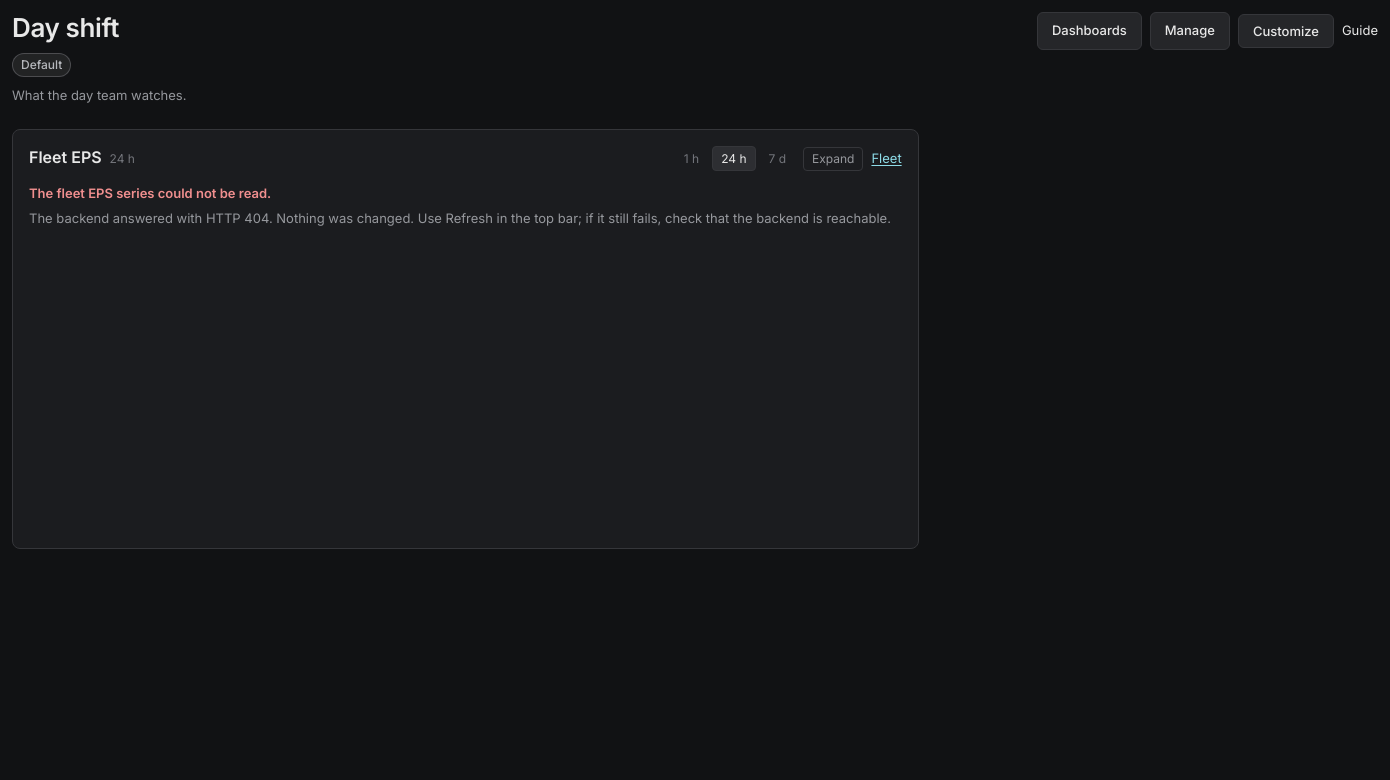
Test case: layout saving › keeps the layout and Save control after a network failure
Click the button "1 h" at point(692, 159), box [675,146,708,171]
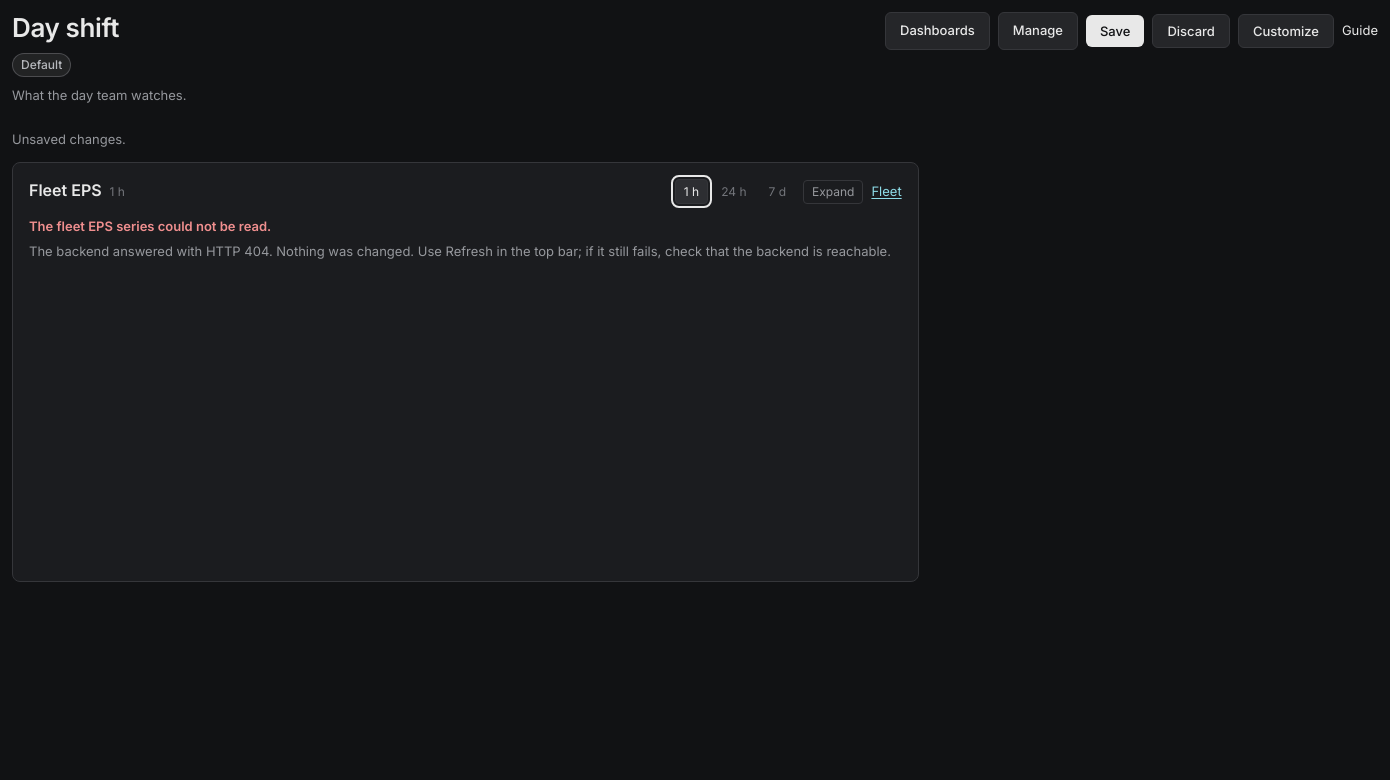
Check: the text "Unsaved changes." is shown, box [12,131,126,147]
Click the button "Save" at point(1115, 31), box [1086,15,1144,47]
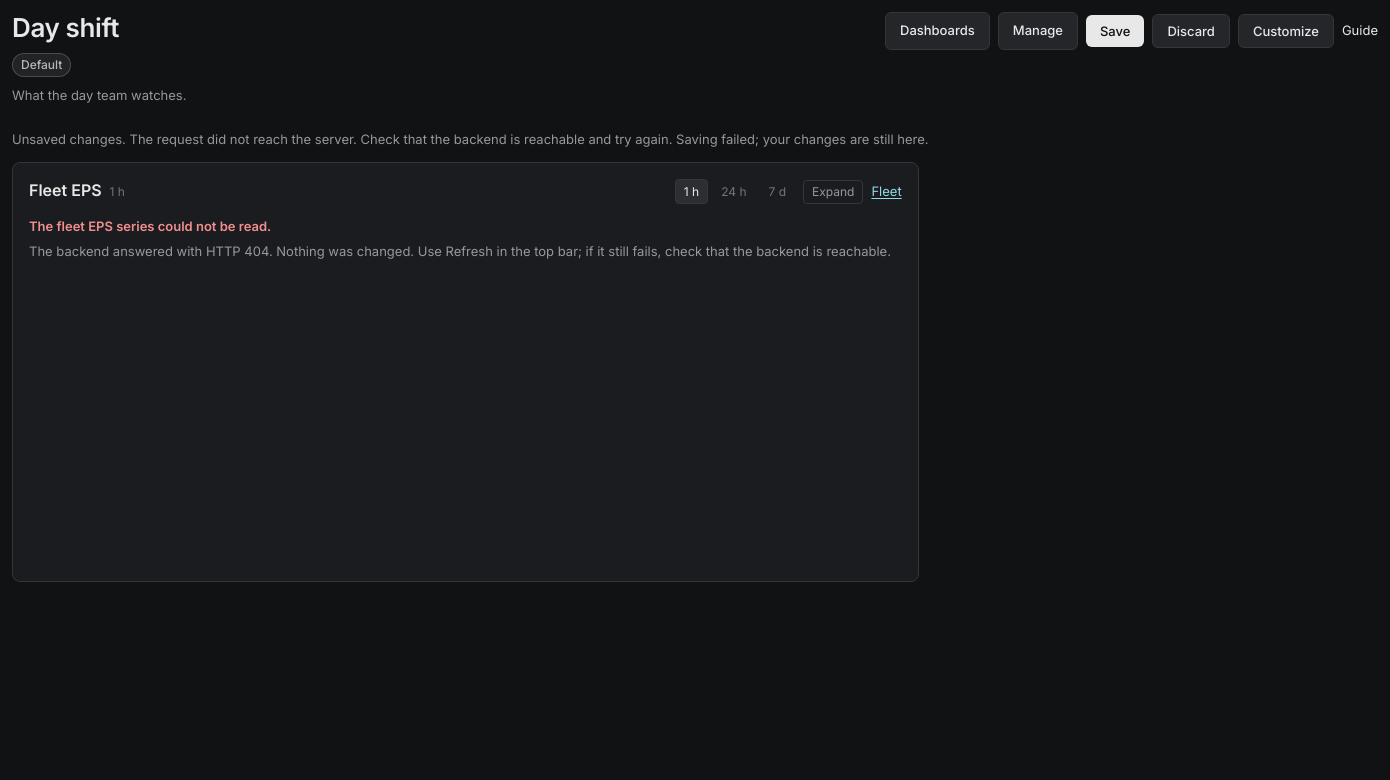
Check: the button "Save" is shown, box [1086,15,1144,47]
Check: the message that starts with "Unsaved changes." shows "Saving failed; your changes are still here.", box [126,131,929,147]
